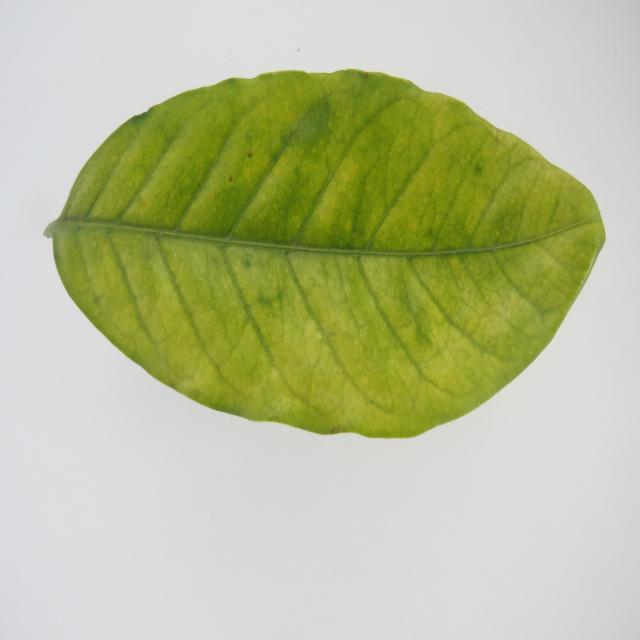DeficienciaNutricional-Manganeso: (45, 70, 605, 437)
